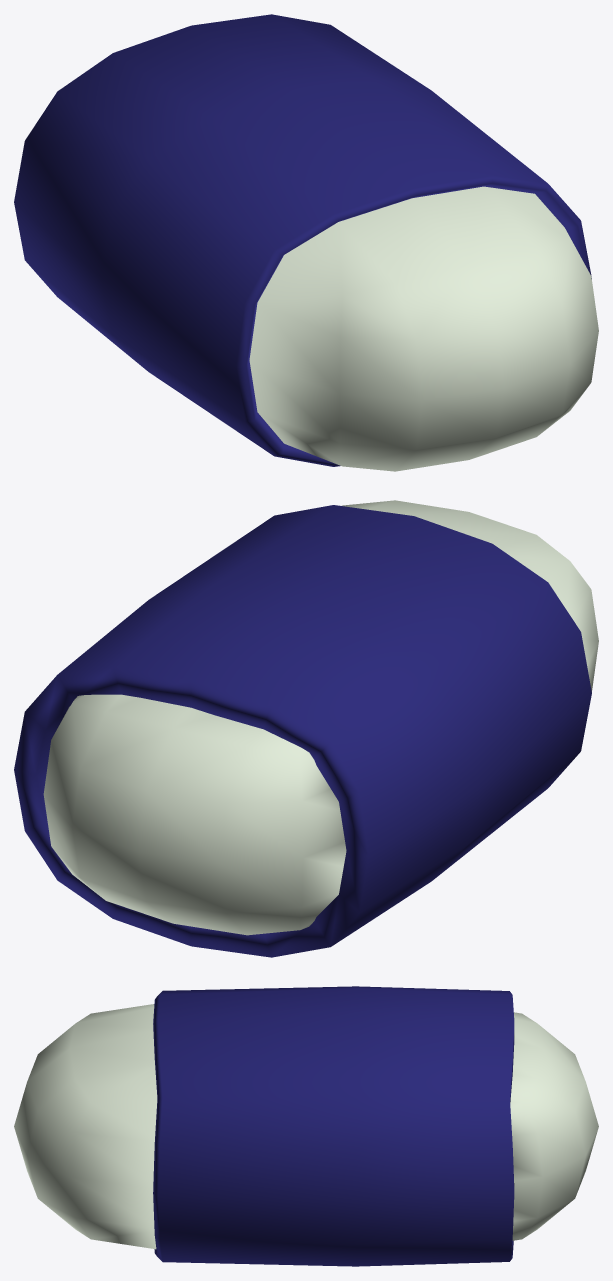
Rendered from rubber.fbx.
3 views of the same model, one above another, from view 1: azimuth 30°, elevation 25°; view 2: azimuth 150°, elevation 25°; view 3: azimuth 270°, elevation 25° (orthographic). The views are drawn at different scales.
Visible parts, largest first — view 1: rubber; view 2: rubber; view 3: rubber.
Boxes of the visible parts, box(x1,y1,x2,y2) form: rubber: box(14, 14, 598, 471); rubber: box(14, 500, 598, 957); rubber: box(14, 986, 598, 1266).
Size of the model in its own units: 111 by 80.08 by 187.
